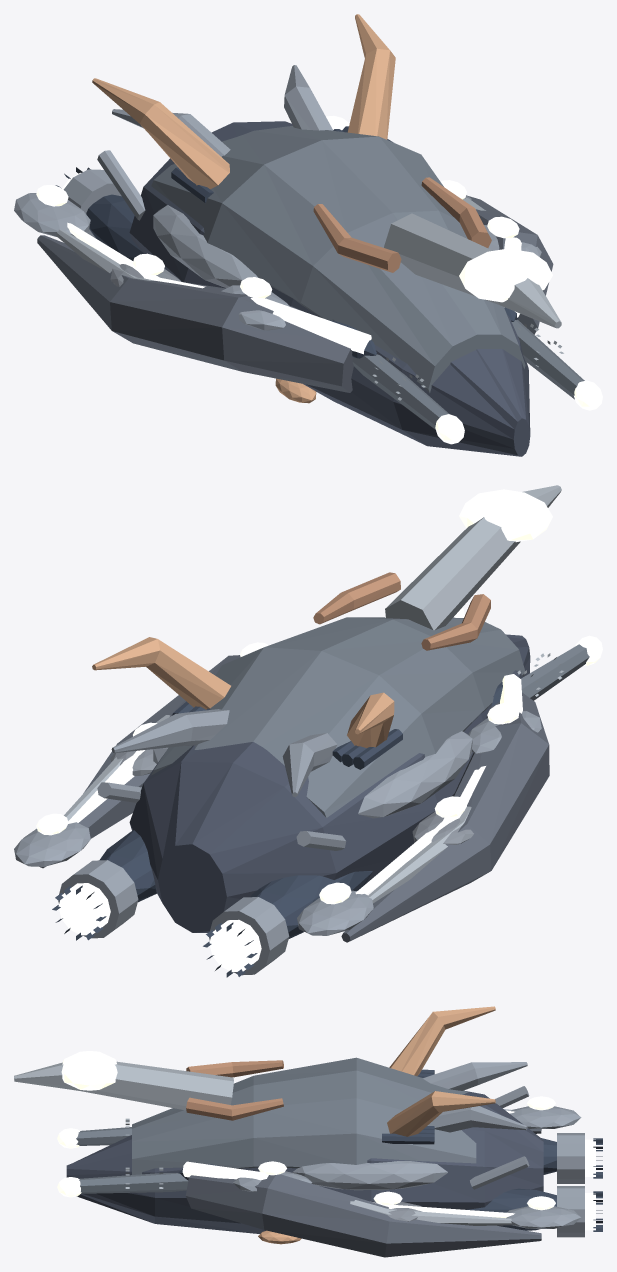
File: npc_recruitStreuner.glb
3 renders of one model, top to bottom at view 1: azimuth 30°, elevation 25°; view 2: azimuth 150°, elevation 25°; view 3: azimuth 270°, elevation 25°, orthographic. The views are drawn at different scales.
Visible parts, largest first — view 1: upper_armor_scar, armored_scythe_-1, keel_pressure_hull, scout_extended_radar, scout_raised_sweep_-1, heavy_shield_pad_-1, scout_raised_sweep_1, scout_radar_blue, energy_etched_rail_-1, long_plasma_cannon_-1, engine_armor_-1, pirate_crest_-1 (+13 smaller); view 2: upper_armor_scar, keel_pressure_hull, armored_scythe_-1, scout_extended_radar, heavy_shield_pad_-1, scout_raised_sweep_1, scout_radar_blue, predator_dorsal_fang_1, engine_armor_-1, exhaust_coil_1, exhaust_coil_-1, scythe_plate_1_2 (+20 smaller); view 3: upper_armor_scar, armored_scythe_1, keel_pressure_hull, scout_extended_radar, heavy_shield_pad_1, scout_raised_sweep_-1, scout_raised_sweep_1, long_plasma_cannon_1, scout_radar_blue, predator_dorsal_fang_-1, energy_etched_rail_1, predator_dorsal_fang_1 (+20 smaller).
Boxes of the visible parts, bbox=[...] form: upper_armor_scar: bbox=[151, 126, 525, 392]; armored_scythe_-1: bbox=[37, 235, 353, 392]; keel_pressure_hull: bbox=[129, 121, 530, 456]; scout_extended_radar: bbox=[384, 213, 561, 328]; scout_raised_sweep_-1: bbox=[92, 78, 229, 189]; heavy_shield_pad_-1: bbox=[153, 205, 258, 288]; scout_raised_sweep_1: bbox=[347, 14, 395, 139]; scout_radar_blue: bbox=[459, 248, 552, 302]; energy_etched_rail_-1: bbox=[67, 222, 371, 354]; long_plasma_cannon_-1: bbox=[352, 354, 448, 429]; engine_armor_-1: bbox=[86, 194, 143, 260]; pirate_crest_-1: bbox=[313, 204, 401, 272]; upper_armor_scar: bbox=[151, 617, 524, 817]; keel_pressure_hull: bbox=[129, 634, 530, 932]; armored_scythe_-1: bbox=[341, 692, 549, 942]; scout_extended_radar: bbox=[385, 485, 561, 630]; heavy_shield_pad_-1: bbox=[358, 731, 472, 818]; scout_raised_sweep_1: bbox=[92, 637, 230, 709]; scout_radar_blue: bbox=[459, 489, 552, 542]; predator_dorsal_fang_1: bbox=[111, 709, 229, 752]; engine_armor_-1: bbox=[250, 871, 372, 938]; exhaust_coil_1: bbox=[58, 860, 138, 938]; exhaust_coil_-1: bbox=[209, 897, 289, 975]; scythe_plate_1_2: bbox=[14, 822, 90, 866]; upper_armor_scar: bbox=[132, 1057, 476, 1174]; armored_scythe_1: bbox=[185, 1174, 541, 1257]; keel_pressure_hull: bbox=[66, 1090, 543, 1233]; scout_extended_radar: bbox=[14, 1061, 233, 1110]; heavy_shield_pad_1: bbox=[292, 1161, 447, 1190]; scout_raised_sweep_-1: bbox=[389, 1006, 495, 1076]; scout_raised_sweep_1: bbox=[387, 1091, 495, 1136]; long_plasma_cannon_1: bbox=[79, 1173, 188, 1193]; scout_radar_blue: bbox=[61, 1051, 117, 1090]; predator_dorsal_fang_-1: bbox=[423, 1062, 527, 1090]; energy_etched_rail_1: bbox=[182, 1161, 514, 1218]; predator_dorsal_fang_1: bbox=[428, 1106, 527, 1132].
Size of the model in its own units: 1.83 by 1.1 by 3.36.
